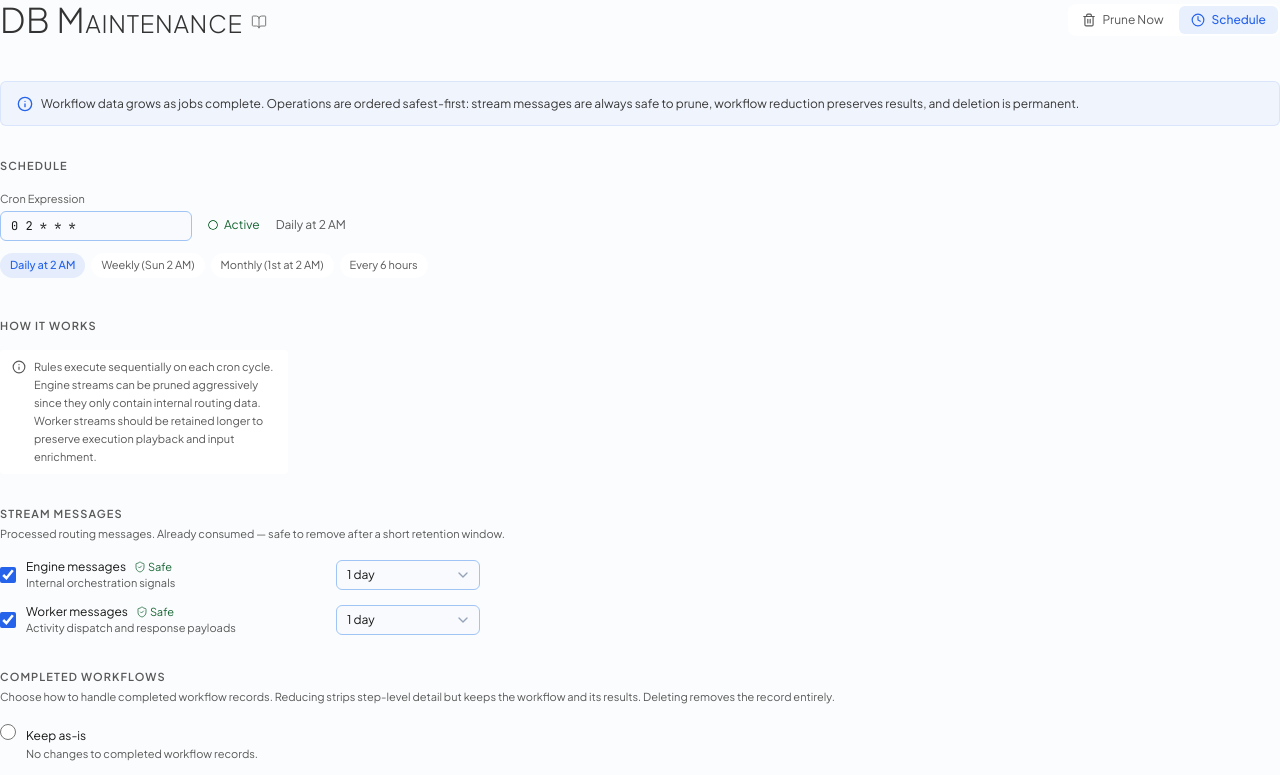
Test: MaintenancePage - Prune mode › closes confirm modal on Cancel
The image size is (1280, 775).
Click the button "Prune Now" at [1123, 20], box [1070,6,1176,34]
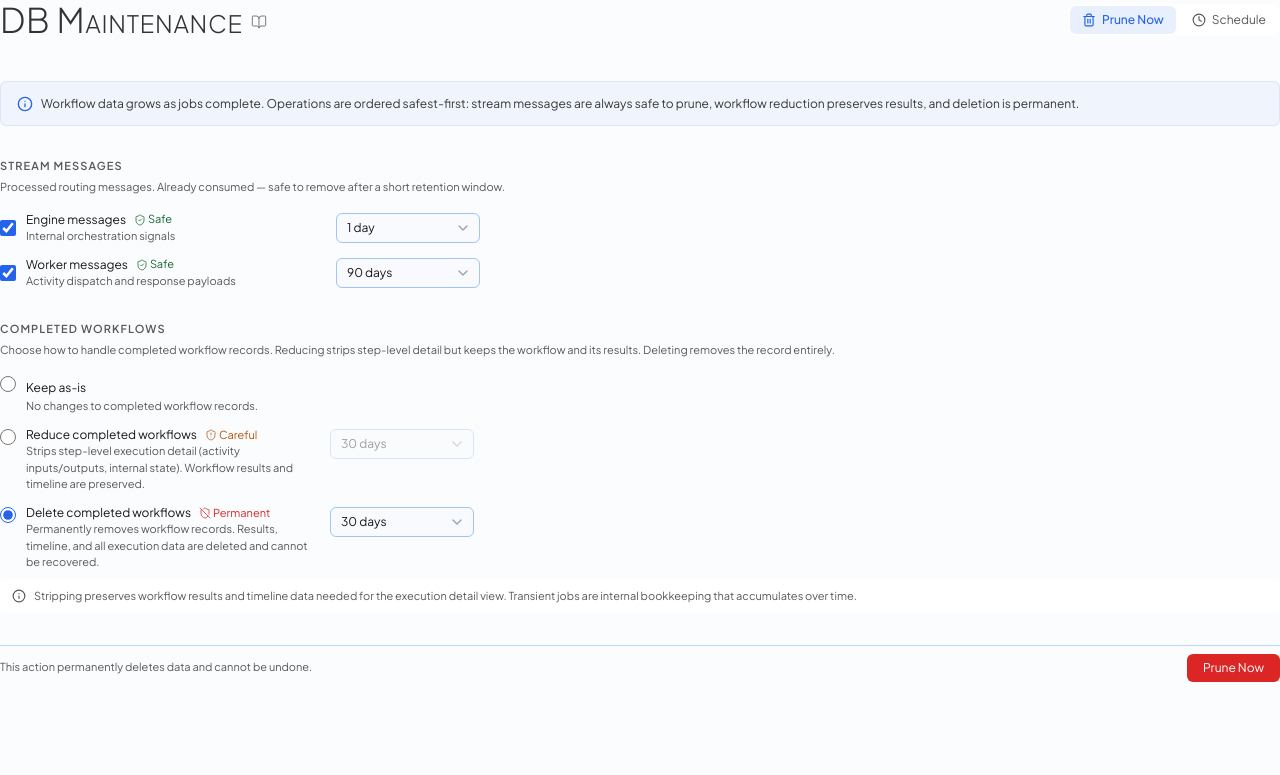
Click the 2nd button "Prune Now" at [1233, 668], box [1187,654,1279,682]
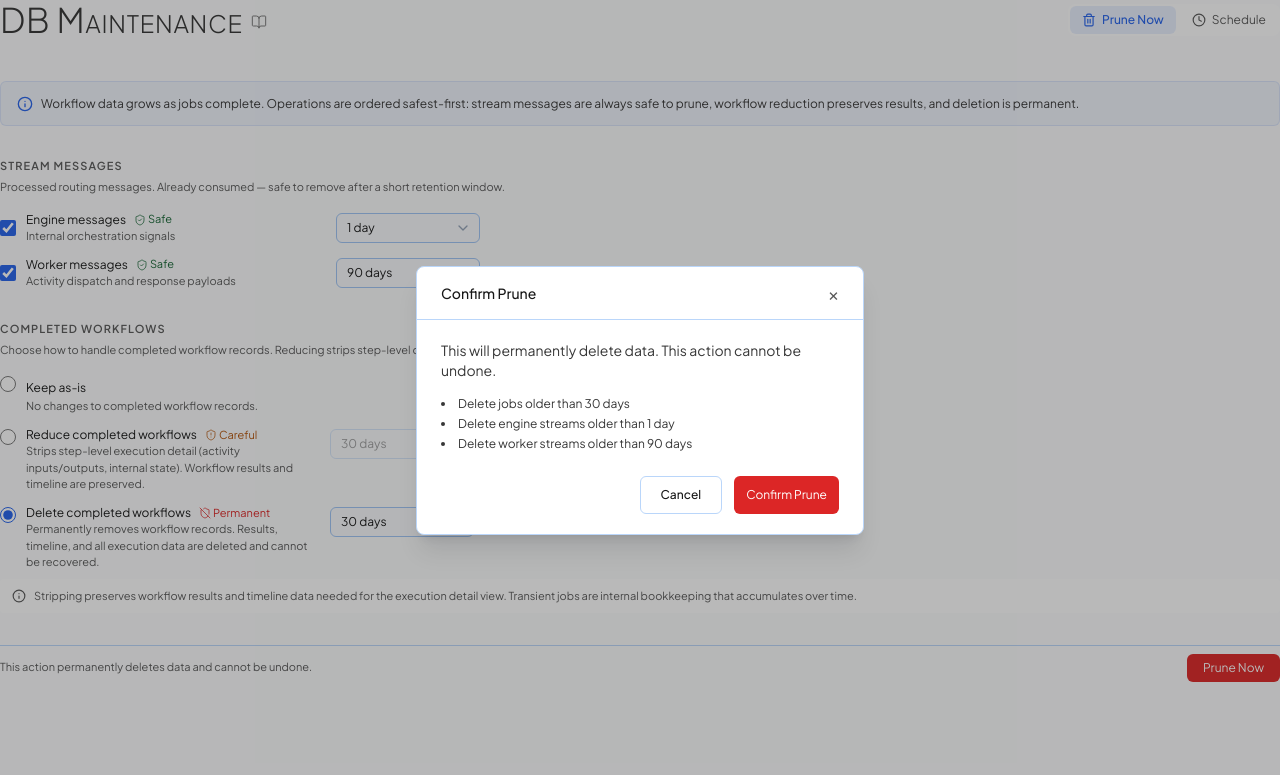
Click the button "Cancel" at [681, 494], box [640,476,722,514]
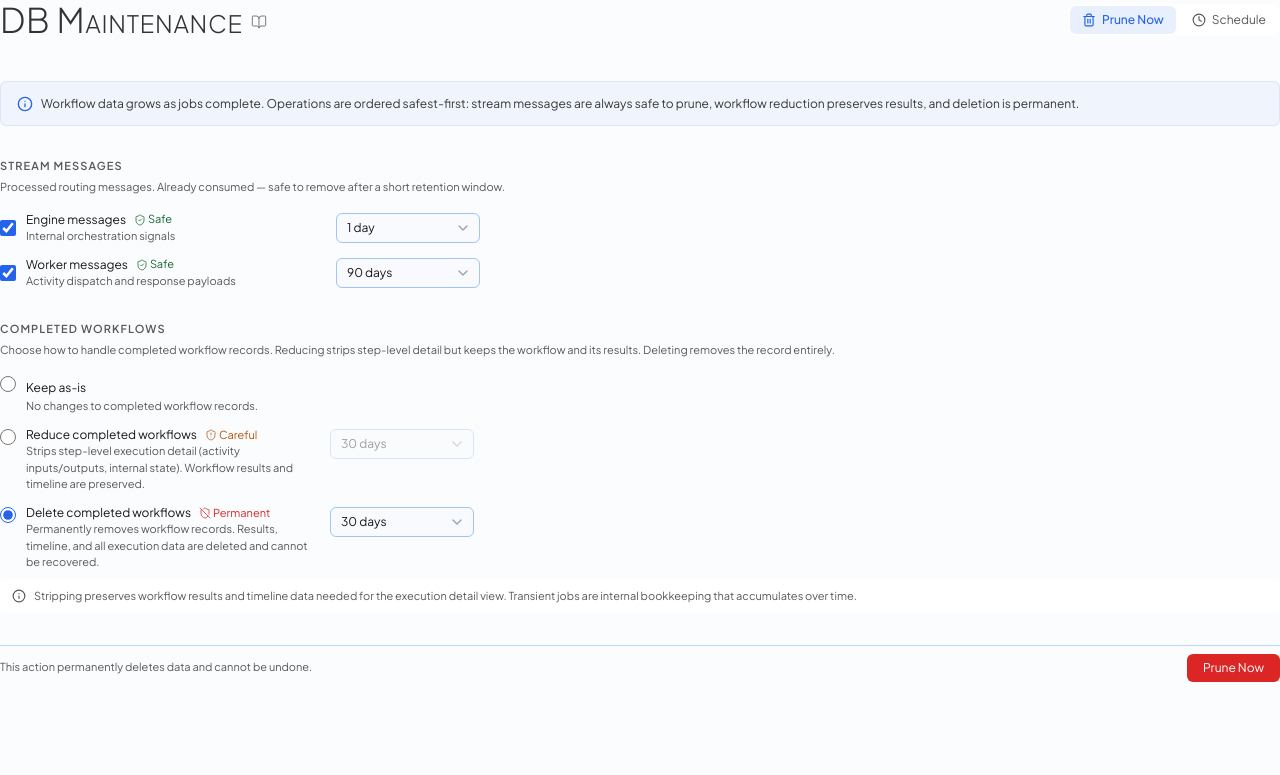
Check: the heading "Confirm Prune" is gone
